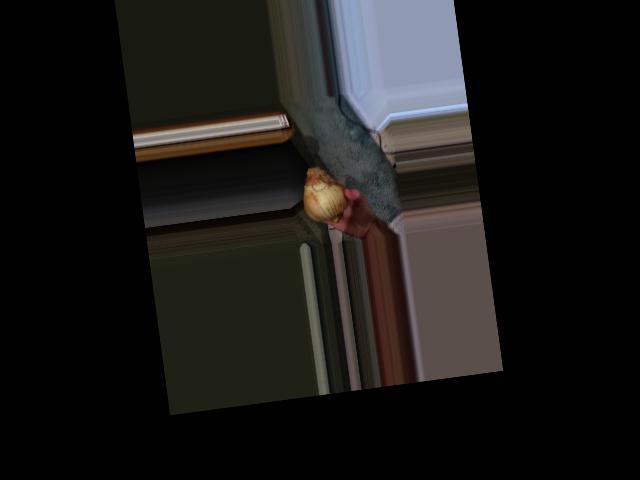onion: (301, 161, 351, 222)
